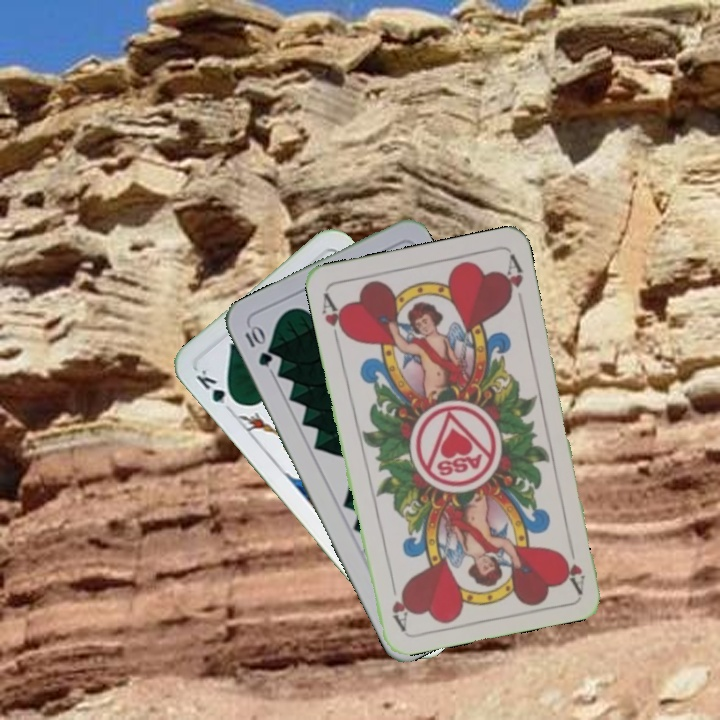G10: (240, 321, 275, 369)
GK: (191, 365, 241, 415)
HA: (318, 289, 350, 347), (557, 535, 588, 594)
